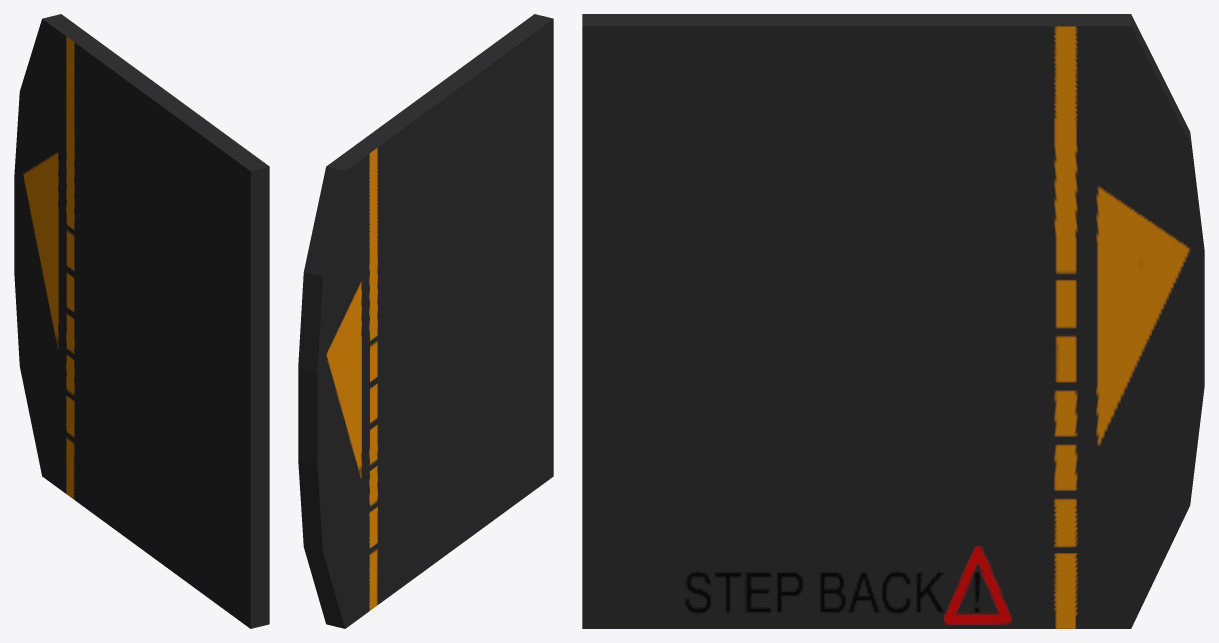
The model's file is door1.fbx.
3 renders of one model, left to right at view 1: azimuth 30°, elevation 25°; view 2: azimuth 150°, elevation 25°; view 3: azimuth 270°, elevation 25°, orthographic. The views are drawn at different scales.
Parts seen in each view (by area): view 1: Cube; view 2: Cube; view 3: Cube.
Part boxes in pixels (x1,y1,x2,y2): Cube: (14, 14, 269, 628); Cube: (298, 14, 553, 628); Cube: (582, 14, 1204, 628).
Bounding box in the file's own units: 10.5 × 240 × 224.
1 material, 1 textured.
